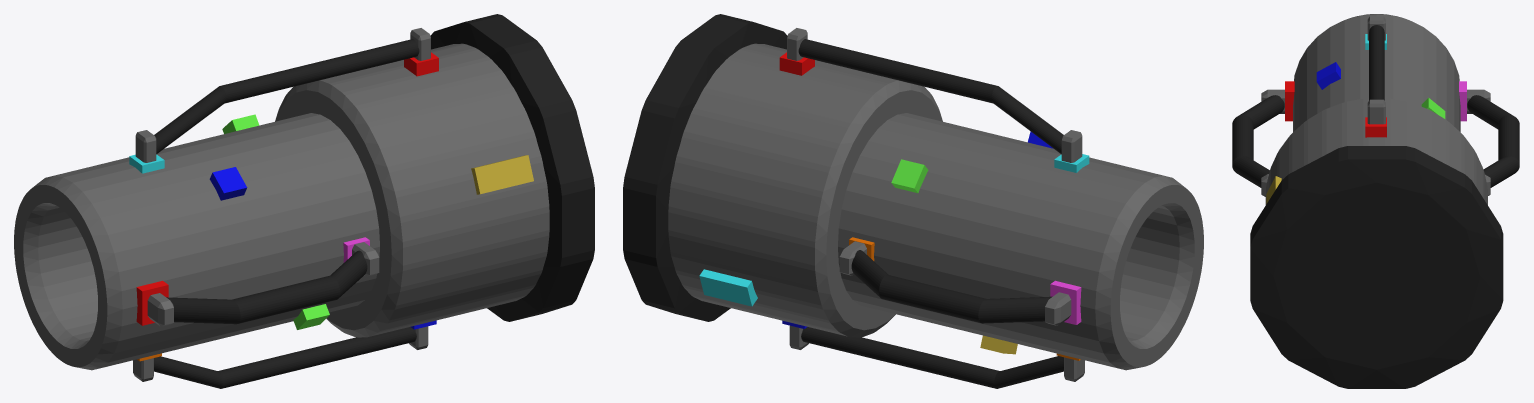
Rendered from Ray'nMaker.fbx.
3 views of the same model, side by side, from view 1: azimuth 30°, elevation 25°; view 2: azimuth 150°, elevation 25°; view 3: azimuth 270°, elevation 25° (orthographic). The views are drawn at different scales.
Visible parts, largest first — view 1: Cylinder, Cylinder.001, Cylinder.006, Cylinder.002, Cylinder.004, Cylinder.003, Cube.016, Cube.017, Cube.002, Cube, Cube.004, Cube.021 (+2 smaller); view 2: Cylinder, Cylinder.001, Cylinder.006, Cylinder.002, Cylinder.005, Cylinder.003, Cube.019, Cube.020, Cube.014, Cube.013, Cube.004, Cube.005 (+1 smaller); view 3: Cylinder.006, Cylinder, Cylinder.001, Cylinder.004, Cylinder.005, Cylinder.002, Cube.006, Cube.017, Cube.002, Cube.005, Cube.013, Cube.004.
Boxes of the visible parts, x1,y1,x2,y2 form: Cylinder: (14,113,379,370); Cylinder.001: (275,43,549,337); Cylinder.006: (430,14,594,321); Cylinder.002: (154,39,419,154); Cylinder.004: (166,250,367,324); Cylinder.003: (154,327,416,388); Cube.016: (471,155,533,194); Cube.017: (209,167,247,200); Cube.002: (136,280,168,325); Cube: (147,293,173,326); Cube.004: (135,130,156,162); Cube.021: (293,304,329,329); Cylinder: (838,113,1203,370); Cylinder.001: (668,43,942,337); Cylinder.006: (623,14,787,321); Cylinder.002: (798,39,1063,154); Cylinder.005: (851,250,1052,323); Cylinder.003: (801,327,1063,388); Cube.019: (699,269,757,306); Cube.020: (891,159,928,193); Cube.014: (1045,292,1071,325); Cube.013: (1050,280,1081,324); Cube.004: (1061,130,1082,162); Cube.005: (779,52,814,75); Cylinder.006: (1250,146,1503,388); Cylinder: (1293,14,1460,131); Cylinder.001: (1265,98,1487,204); Cylinder.004: (1232,95,1284,187); Cylinder.005: (1467,95,1519,187); Cylinder.002: (1369,25,1384,100); Cube.006: (1367,99,1385,124); Cube.017: (1316,62,1340,89); Cube.002: (1285,81,1294,121); Cube.005: (1365,117,1386,137); Cube.013: (1459,81,1466,121); Cube.004: (1367,16,1385,40).
Size of the model in its own units: 538 by 348 by 342.
